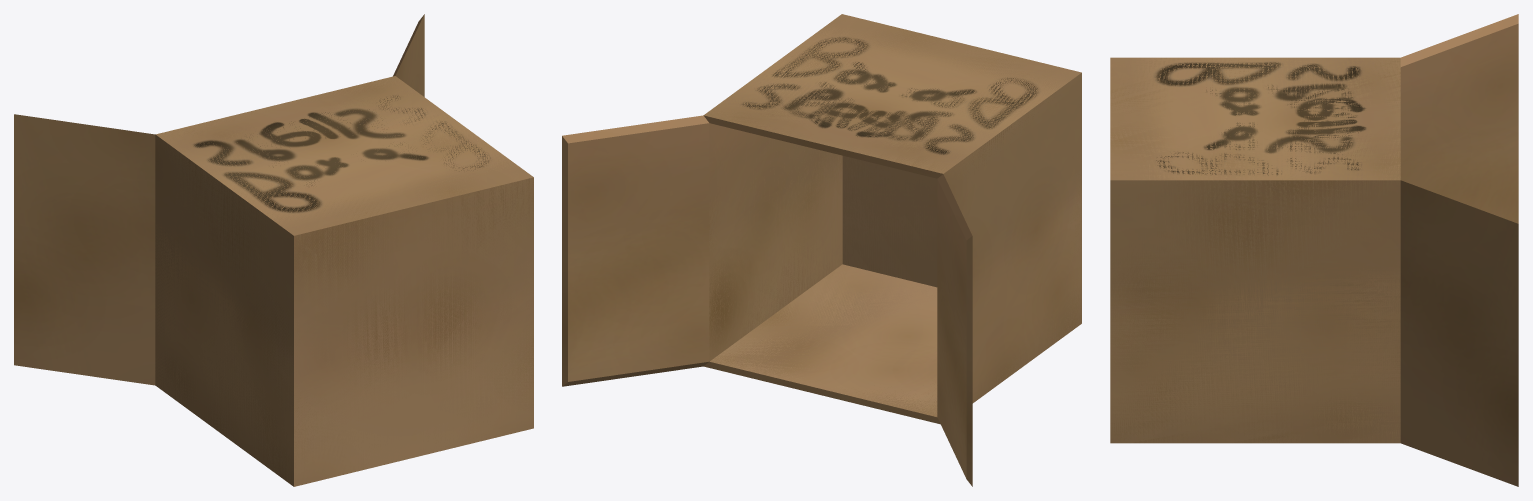
The picture shows the model from 3 angles, left to right: view 1: azimuth 30°, elevation 25°; view 2: azimuth 150°, elevation 25°; view 3: azimuth 270°, elevation 25°; orthographic projection. The views are drawn at different scales.
Parts seen in each view (by area): view 1: Cube; view 2: Cube; view 3: Cube.
Part boxes in pixels (box(x1,y1,x2,y2)): Cube: box(14, 14, 533, 486); Cube: box(562, 14, 1081, 486); Cube: box(1110, 14, 1518, 486).
Bounding box in the file's own units: 342 × 200 × 281.
Materials: 1 (1 with a texture image).
